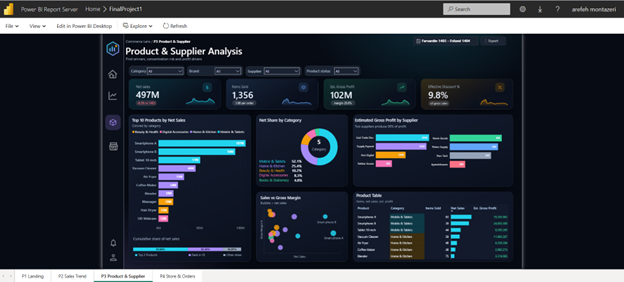

Layout of this report page (visuals, bound fields, positions):
{"tool":"powerbi","page":{"name":"P3 Product & Supplier","canvas":[1920,1080],"ordinal":2},"visuals":[{"type":"shape","box":[82,0,26,1080],"z":0},{"type":"textbox","box":[102,0,322,68],"z":1000},{"type":"shape","box":[0,0,96,1080],"z":2000},{"type":"textbox","box":[100,44,558,80],"z":3000},{"type":"image","box":[0,28,96,80],"z":4000},{"type":"textbox","box":[102,100,404,48],"z":5000},{"type":"image","box":[22,160,50,50],"z":6000},{"type":"image","box":[22,260,50,50],"z":7000},{"type":"image","box":[14,372,70,70],"z":8000},{"type":"image","box":[26,492,48,48],"z":9000},{"type":"image","box":[30,940,40,40],"z":10000},{"type":"image","box":[30,1006,40,40],"z":11000},{"type":"shape","box":[74,0,48,1080],"z":12000},{"type":"card","fields":{"Values":["Fact_OrderLines.Net Sales"]},"box":[120,246.7,172.2,64.4],"z":13000},{"type":"shape","title":"fffffff","box":[151.7,305,96.7,26.7],"z":14000},{"type":"textbox","box":[149.2,226.7,90,38.3],"z":15000},{"type":"image","box":[453.8,224.5,52.5,43.8],"z":16000},{"type":"image","box":[381.7,287,135,55],"z":17000},{"type":"card","fields":{"Values":["Fact_OrderLines.Items Sold"]},"box":[576,246,132,66],"z":18000},{"type":"shape","title":"fffffff","box":[594.5,305.5,110.9,25.5],"z":19000},{"type":"textbox","box":[588.6,226.3,90,37.5],"z":20000},{"type":"image","box":[894.9,223.8,52.5,43.8],"z":21000},{"type":"image","box":[822.8,286.3,135,55],"z":22000},{"type":"card","fields":{"Values":["Fact_OrderLines.Estimated Gross Profit"]},"box":[1006,246,174,66],"z":23000},{"type":"shape","title":"fffffff","box":[1044.5,305.5,112.7,25.5],"z":24000},{"type":"textbox","box":[1038.6,225.7,150,38.6],"z":25000},{"type":"image","box":[1344.7,223.8,52.5,43.8],"z":26000},{"type":"image","box":[1272.6,286.3,135,55],"z":27000},{"type":"card","fields":{"Values":["Fact_OrderLines.Effective Discount %"]},"box":[1475.7,245.7,122.9,65.7],"z":28000},{"type":"shape","title":"fffffff","box":[1491.4,305.7,97.1,25.7],"z":29000},{"type":"textbox","box":[1487.1,225.7,161.4,38.6],"z":30000},{"type":"image","box":[1793.1,223.8,52.5,43.8],"z":31000},{"type":"image","box":[1721,286.3,135,55],"z":32000},{"type":"shape","box":[122,148,255,46],"z":33000},{"type":"slicer","fields":{"Values":["Dim_Product.Category"]},"box":[194,146,186,48],"z":34000},{"type":"shape","box":[388.8,147.4,255,46],"z":35000},{"type":"slicer","fields":{"Values":["Dim_Product.Brand"]},"box":[506,146,138,48],"z":36000},{"type":"shape","box":[656.2,148.2,255,46],"z":37000},{"type":"slicer","fields":{"Values":["Dim_Supplier.SupplierName"]},"box":[730,146,182,48],"z":38000},{"type":"shape","box":[925.5,147.5,255,46],"z":39000},{"type":"slicer","fields":{"Values":["Dim_Product.ProductStatus"]},"box":[1052,146,130,48],"z":40000},{"type":"donutChart","title":"Net Share by Category","fields":{"Y":["Fact_OrderLines.Net Sales Share %"],"Category":["Dim_Product.Category"]},"box":[714,384,558,246],"z":41000},{"type":"card","fields":{"Values":["Count(Dim_Product.Category)"]},"box":[940,466,104,84],"z":42000},{"type":"card","fields":{"Values":["Dim_Product.% Beauty & Health"]},"box":[859.6,611.6,60,38],"z":43000},{"type":"card","fields":{"Values":["Dim_Product.% Home & Kitchen"]},"box":[859.6,589.6,60,38],"z":44000},{"type":"card","fields":{"Values":["Dim_Product.% Digital Accessories"]},"box":[865.6,633.6,60,38],"z":45000},{"type":"card","fields":{"Values":["Dim_Product.% Mobile & Tablets"]},"box":[859.6,567.6,60,38],"z":46000},{"type":"textbox","box":[713.6,569.6,196,136],"z":47000},{"type":"card","fields":{"Values":["Dim_Product.% Books & Stationery"]},"box":[865.3,654.8,60,38],"z":48000},{"type":"barChart","title":"Top 10 Products by Net Sales","fields":{"Y":["Fact_OrderLines.Net Sales"],"Category":["Dim_Product.ProductName"],"Series":["Dim_Product.Category"]},"box":[135.7,384.3,594.3,528.6],"z":49000},{"type":"hundredPercentStackedBarChart","title":"Cumulative share of net sales","fields":{"Y":["Fact_OrderLines.Top 3 Share","Fact_OrderLines.Rank 4-10 Share","Fact_OrderLines.Other Share"]},"box":[135.7,930,504.3,95.7],"z":50000},{"type":"textbox","box":[143.8,997.5,513.8,38.8],"z":51000},{"type":"clusteredBarChart","title":"Estimated Gross Profit by Supplier","fields":{"Category":["Dim_Supplier.SupplierName"],"Y":["Fact_OrderLines.Estimated Gross Profit"]},"box":[1150,384.3,380,250],"z":52000},{"type":"clusteredBarChart","title":"Estimated Gross Profit by Supplier","fields":{"Category":["Dim_Supplier.SupplierName"],"Y":["Fact_OrderLines.Estimated Gross Profit"]},"box":[1494.3,434.3,368.6,202.9],"z":53000},{"type":"scatterChart","title":"Sales vs Gross Margin","fields":{"Category":["Dim_Product.ProductName"],"X":["Fact_OrderLines.Net Sales"],"Y":["Fact_OrderLines.Gross Margin %"],"Size":["Fact_OrderLines.Items Sold"],"Series":["Dim_Product.Category"]},"box":[718.6,738.6,382.9,258.6],"z":54000},{"type":"shape","box":[740,997.1,352.9,21.4],"z":55000},{"type":"shape","box":[715.7,801.4,50,205.7],"z":56000},{"type":"textbox","box":[871.4,1005.7,88.6,38.6],"z":57000},{"type":"tableEx","title":"Product Table","fields":{"Values":["Dim_Product.ProductName","Dim_Product.Category","Fact_OrderLines.Items Sold","Fact_OrderLines.Net Sales","Fact_OrderLines.Estimated Gross Profit"]},"box":[1157.1,728.6,710,351.4],"z":58000},{"type":"textbox","box":[978.6,847.1,118.6,38.6],"z":59000},{"type":"textbox","box":[1010,921.4,181.4,38.6],"z":60000},{"type":"shape","box":[1424,14,298,40],"z":61000},{"type":"image","box":[1434,24,26,20],"z":62000},{"type":"shape","box":[1732,14,116,40],"z":63000},{"type":"image","box":[1740,24,30,20],"z":64000}]}

Visuals, with their boxes on the page's 1920x1080 design canvas (x1, y1, x2, y2). These are canvas units, not pixel positions in the 624x282 screenshot, which may show the page scaled, cropped or inside an application window:
shape: l=82, t=0, r=108, b=1080
textbox: l=102, t=0, r=424, b=68
shape: l=0, t=0, r=96, b=1080
textbox: l=100, t=44, r=658, b=124
image: l=0, t=28, r=96, b=108
textbox: l=102, t=100, r=506, b=148
image: l=22, t=160, r=72, b=210
image: l=22, t=260, r=72, b=310
image: l=14, t=372, r=84, b=442
image: l=26, t=492, r=74, b=540
image: l=30, t=940, r=70, b=980
image: l=30, t=1006, r=70, b=1046
shape: l=74, t=0, r=122, b=1080
card - Fact_OrderLines.Net Sales: l=120, t=247, r=292, b=311
"fffffff" shape: l=152, t=305, r=248, b=332
textbox: l=149, t=227, r=239, b=265
image: l=454, t=224, r=506, b=268
image: l=382, t=287, r=517, b=342
card - Fact_OrderLines.Items Sold: l=576, t=246, r=708, b=312
"fffffff" shape: l=594, t=306, r=705, b=331
textbox: l=589, t=226, r=679, b=264
image: l=895, t=224, r=947, b=268
image: l=823, t=286, r=958, b=341
card - Fact_OrderLines.Estimated Gross Profit: l=1006, t=246, r=1180, b=312
"fffffff" shape: l=1044, t=306, r=1157, b=331
textbox: l=1039, t=226, r=1189, b=264
image: l=1345, t=224, r=1397, b=268
image: l=1273, t=286, r=1408, b=341
card - Fact_OrderLines.Effective Discount %: l=1476, t=246, r=1599, b=311
"fffffff" shape: l=1491, t=306, r=1588, b=331
textbox: l=1487, t=226, r=1648, b=264
image: l=1793, t=224, r=1846, b=268
image: l=1721, t=286, r=1856, b=341
shape: l=122, t=148, r=377, b=194
slicer - Dim_Product.Category: l=194, t=146, r=380, b=194
shape: l=389, t=147, r=644, b=193
slicer - Dim_Product.Brand: l=506, t=146, r=644, b=194
shape: l=656, t=148, r=911, b=194
slicer - Dim_Supplier.SupplierName: l=730, t=146, r=912, b=194
shape: l=926, t=148, r=1180, b=194
slicer - Dim_Product.ProductStatus: l=1052, t=146, r=1182, b=194
"Net Share by Category" donutChart: l=714, t=384, r=1272, b=630
card - Count(Dim_Product.Category): l=940, t=466, r=1044, b=550
card - Dim_Product.% Beauty & Health: l=860, t=612, r=920, b=650
card - Dim_Product.% Home & Kitchen: l=860, t=590, r=920, b=628
card - Dim_Product.% Digital Accessories: l=866, t=634, r=926, b=672
card - Dim_Product.% Mobile & Tablets: l=860, t=568, r=920, b=606
textbox: l=714, t=570, r=910, b=706
card - Dim_Product.% Books & Stationery: l=865, t=655, r=925, b=693
"Top 10 Products by Net Sales" barChart: l=136, t=384, r=730, b=913
"Cumulative share of net sales" hundredPercentStackedBarChart: l=136, t=930, r=640, b=1026
textbox: l=144, t=998, r=658, b=1036
"Estimated Gross Profit by Supplier" clusteredBarChart: l=1150, t=384, r=1530, b=634
"Estimated Gross Profit by Supplier" clusteredBarChart: l=1494, t=434, r=1863, b=637
"Sales vs Gross Margin" scatterChart: l=719, t=739, r=1102, b=997
shape: l=740, t=997, r=1093, b=1018
shape: l=716, t=801, r=766, b=1007
textbox: l=871, t=1006, r=960, b=1044
"Product Table" tableEx: l=1157, t=729, r=1867, b=1080
textbox: l=979, t=847, r=1097, b=886
textbox: l=1010, t=921, r=1191, b=960
shape: l=1424, t=14, r=1722, b=54
image: l=1434, t=24, r=1460, b=44
shape: l=1732, t=14, r=1848, b=54
image: l=1740, t=24, r=1770, b=44
